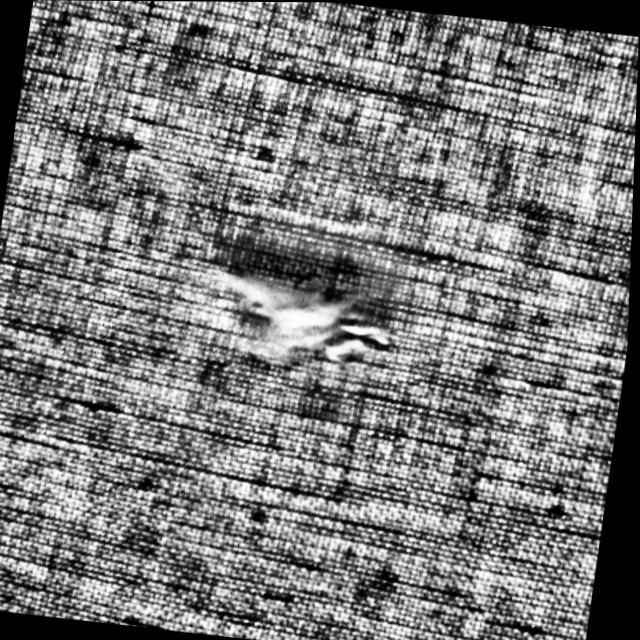Stitch: (229, 257, 405, 377)
